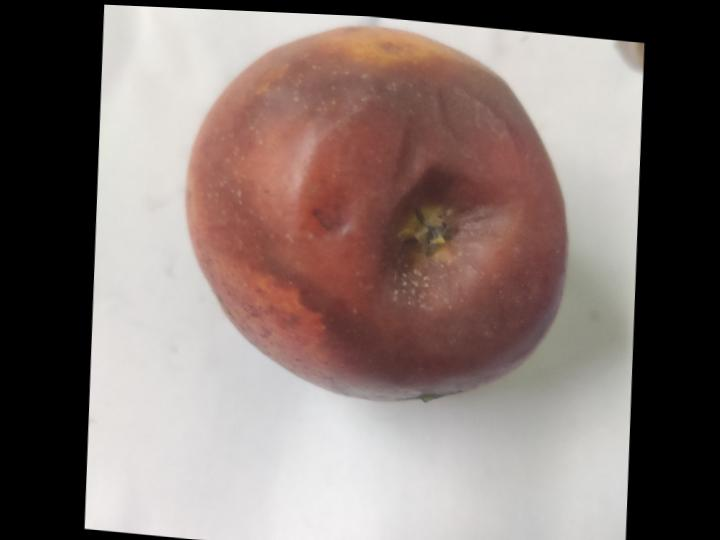apple: (187, 26, 567, 399)
rot_mold_decay: (188, 39, 566, 399)
